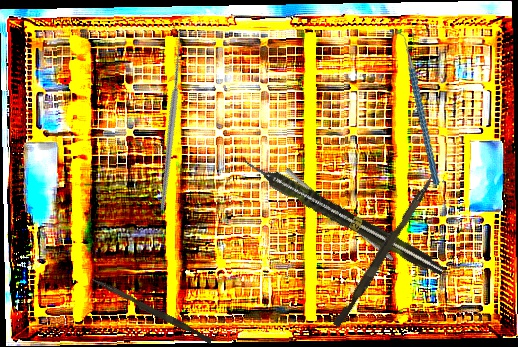Chopper: (374, 30, 458, 185)
Handpiece: (239, 153, 448, 280)
Hook Surgical: (81, 26, 255, 211)
Pusher: (332, 167, 438, 331), (281, 167, 398, 262), (88, 276, 215, 345)
